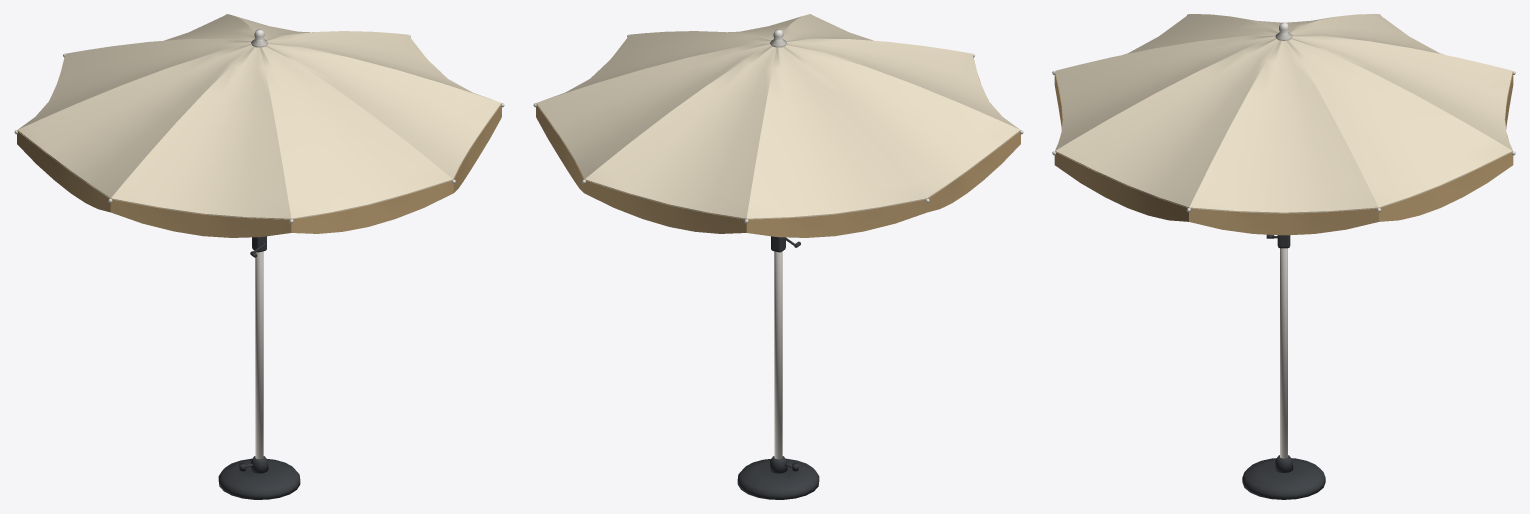
The model's file is parasol.glb.
The picture shows the model from 3 angles, left to right: view 1: azimuth 30°, elevation 25°; view 2: azimuth 150°, elevation 25°; view 3: azimuth 270°, elevation 25°; orthographic projection.
Visible parts, largest first — view 1: canopy, stand; view 2: canopy, stand; view 3: canopy, stand.
Boxes of the visible parts, x1,y1,x2,y2 form: canopy: [14, 14, 504, 237]; stand: [218, 236, 300, 499]; canopy: [533, 14, 1023, 237]; stand: [737, 236, 819, 499]; canopy: [1052, 14, 1515, 235]; stand: [1242, 234, 1325, 499].
Size of the model in its own units: 2.23 by 2.43 by 2.23.
